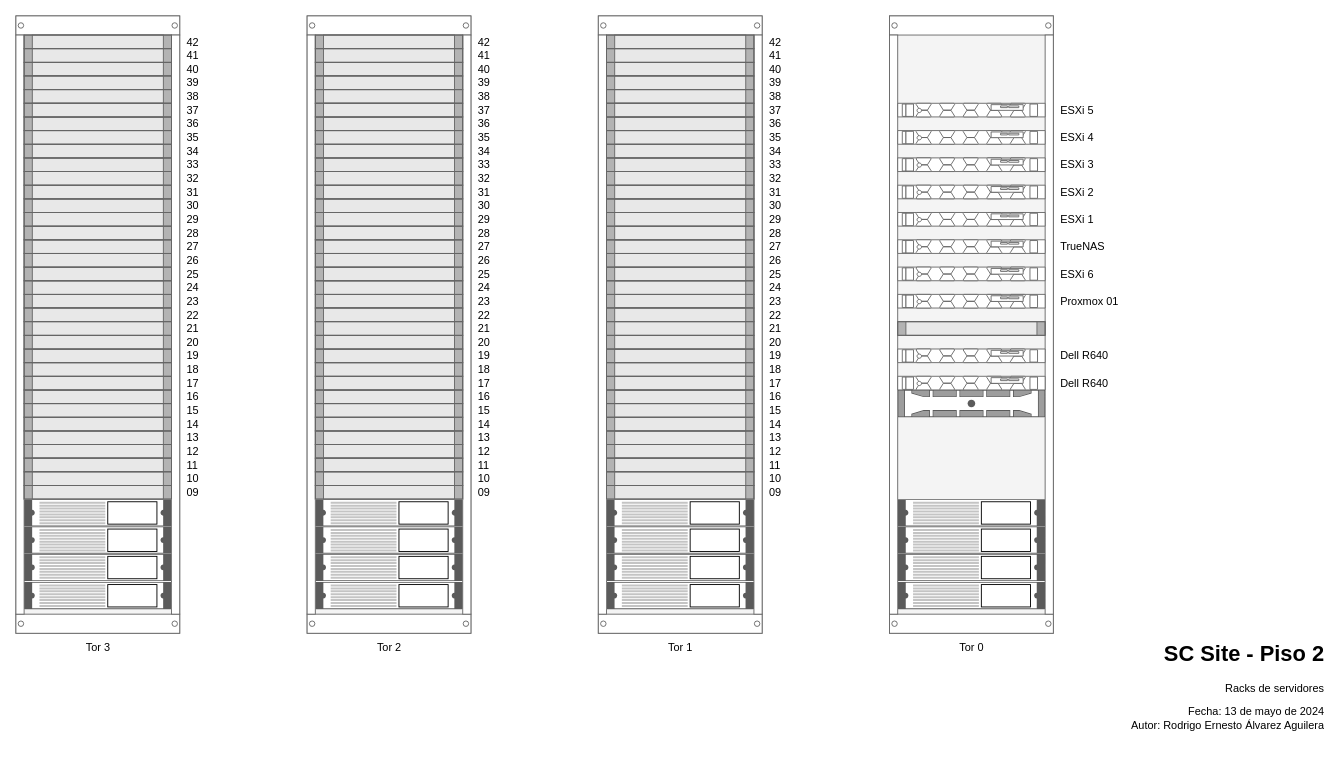
Some shapes in this 1342 by 763 pixel diagram are drawn without their labels. Each missing label, with the centre of its shape:
EMC VNX: pixel 971 403
KVM: pixel 971 328
